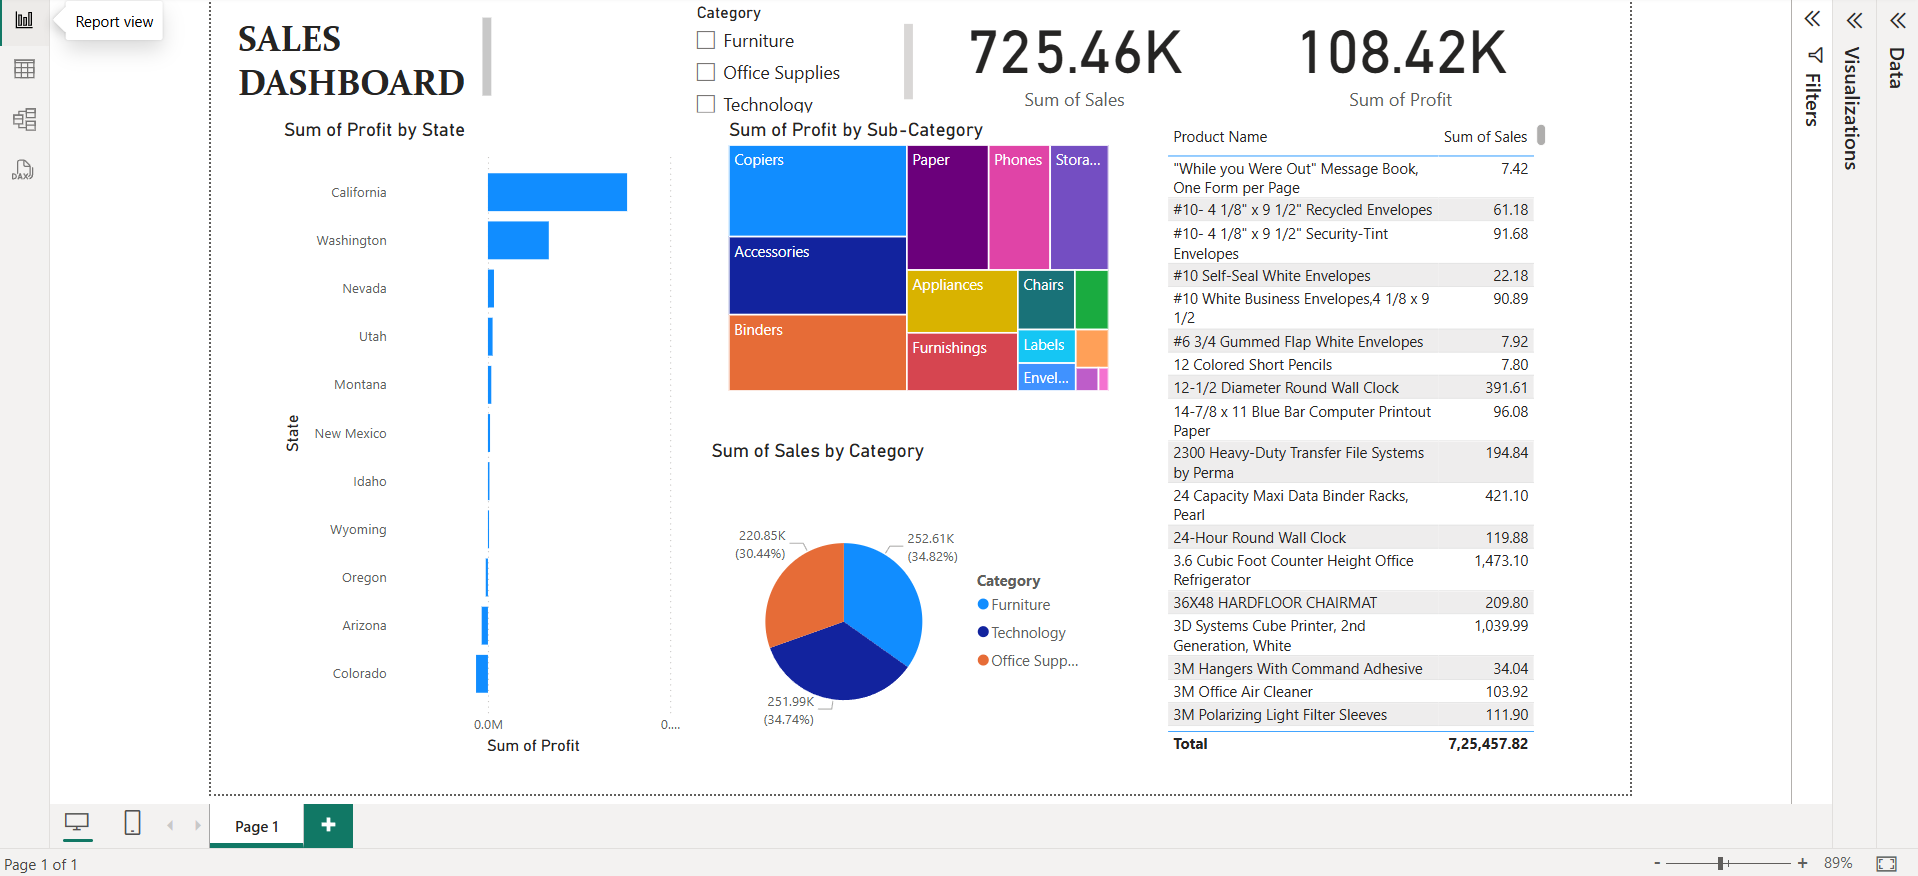

What the dashboard file says about the page in this screenshot:
{"tool":"powerbi","page":{"name":"Page 1","canvas":[1280,720],"ordinal":0},"visuals":[{"type":"barChart","fields":{"Category":["Walmart.State"],"Y":["Sum(Walmart.Profit)"]},"box":[61.1,110,367.9,578.2],"z":0},{"type":"treemap","fields":{"Group":["Walmart.Sub-Category"],"Values":["Sum(Walmart.Profit)"]},"box":[462.1,110,352.1,250.6],"z":1000},{"type":"pieChart","fields":{"Category":["Walmart.Category"],"Y":["Sum(Walmart.Sales)"]},"box":[446.2,399.7,352.1,309.3],"z":2000},{"type":"tableEx","fields":{"Values":["Walmart.Product Name","Sum(Walmart.Sales)"]},"box":[856.9,110,352.1,578.2],"z":3000},{"type":"card","fields":{"Values":["Sum(Walmart.Sales)"]},"box":[622.2,0,313.1,108.2],"z":4000},{"type":"card","fields":{"Values":["Sum(Walmart.Profit)"]},"box":[935.3,0,274.4,108.2],"z":5000},{"type":"slicer","fields":{"Values":["Walmart.Category"]},"box":[425.4,1.2,212.7,108.8],"z":6000},{"type":"textbox","box":[19.6,14.7,238.4,84.3],"z":7000}]}

Visuals, with their boxes on the page's 1280x720 design canvas (x1, y1, x2, y2). These are canvas units, not pixel positions in the 1918x876 screenshot, which may show the page scaled, cropped or inside an application window:
barChart - Walmart.State x Sum(Walmart.Profit): [61,110,429,688]
treemap - Walmart.Sub-Category x Sum(Walmart.Profit): [462,110,814,361]
pieChart - Walmart.Category x Sum(Walmart.Sales): [446,400,798,709]
tableEx - Walmart.Product Name x Sum(Walmart.Sales): [857,110,1209,688]
card - Sum(Walmart.Sales): [622,0,935,108]
card - Sum(Walmart.Profit): [935,0,1210,108]
slicer - Walmart.Category: [425,1,638,110]
textbox: [20,15,258,99]
